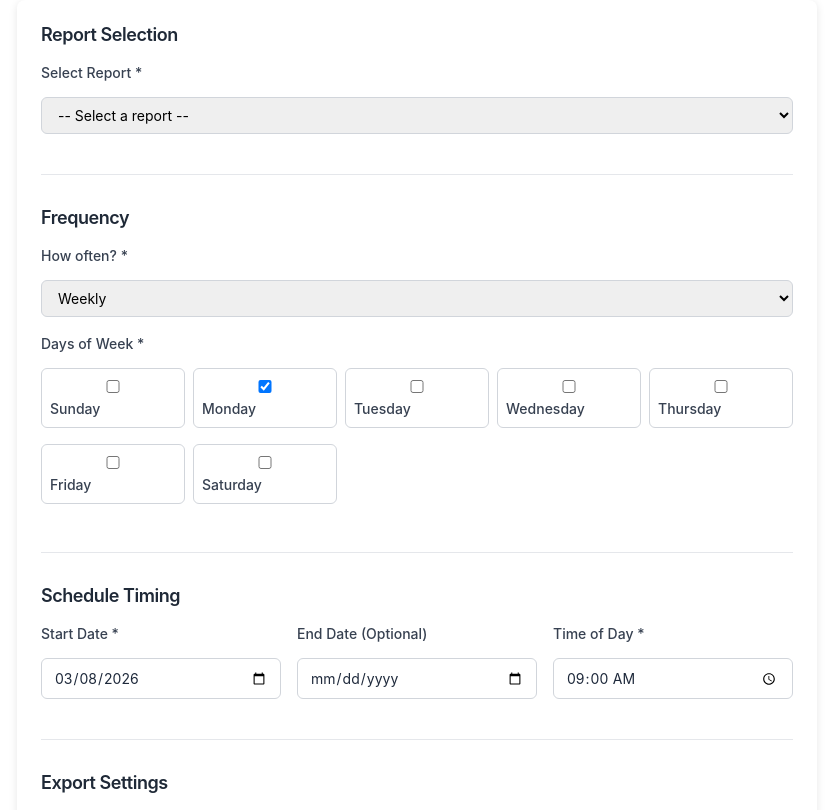
Test case: ScheduleForm › should show month day input when monthly frequency is selected
Select "Monthly" in the dropdown labelled "How often? *" at (417, 298), box x1=41 y1=280 x2=793 y2=317
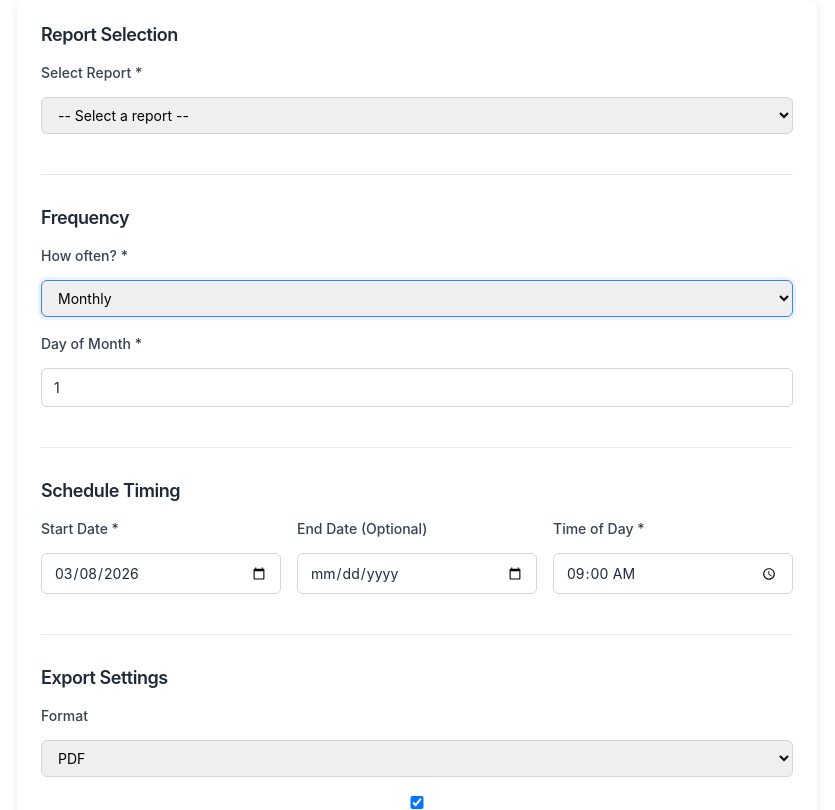
expect the number field labelled "Day of Month *" is shown: met, box x1=41 y1=368 x2=793 y2=407
